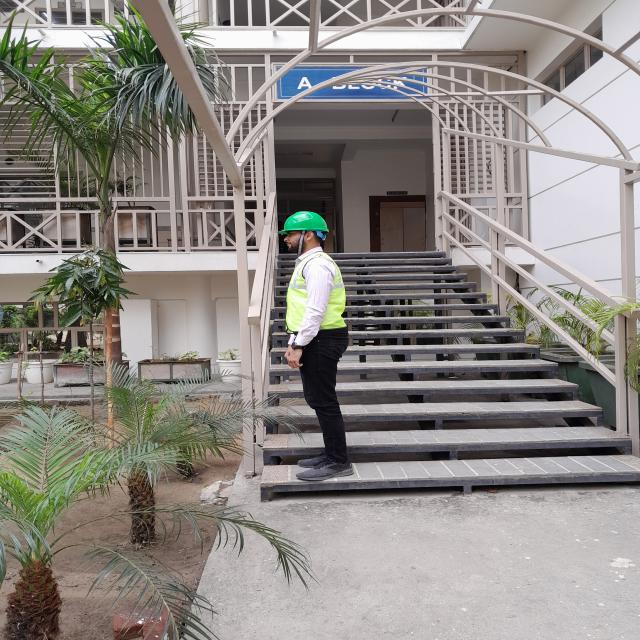safe: (279, 210, 349, 480)
